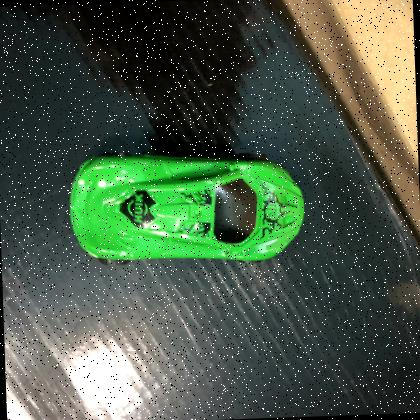Car: (69, 144, 308, 272)
